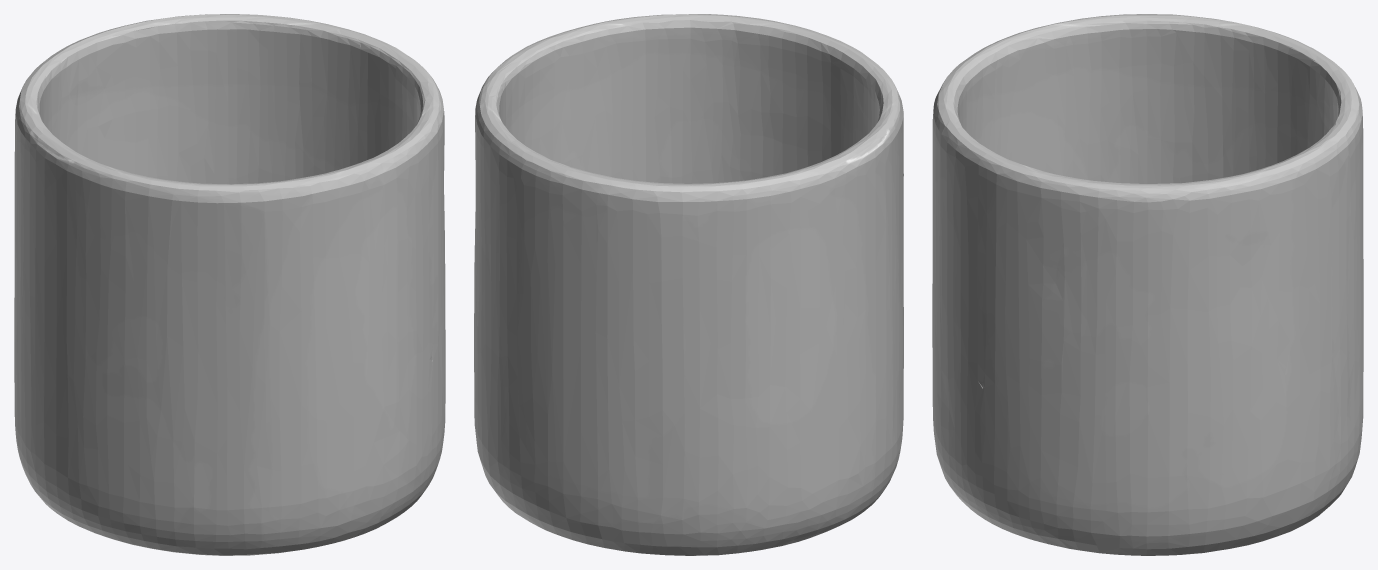
3 views of the same model, side by side, from view 1: azimuth 30°, elevation 25°; view 2: azimuth 150°, elevation 25°; view 3: azimuth 270°, elevation 25° (orthographic).
Visible parts, largest first — view 1: pen_holder.obj; view 2: pen_holder.obj; view 3: pen_holder.obj.
Boxes of the visible parts, x1,y1,x2,y2 form: pen_holder.obj: (14,14,445,555); pen_holder.obj: (474,14,903,555); pen_holder.obj: (932,14,1363,555).
Size of the model in its own units: 0.1057 by 0.1067 by 0.1056.
1 material, 1 textured.
